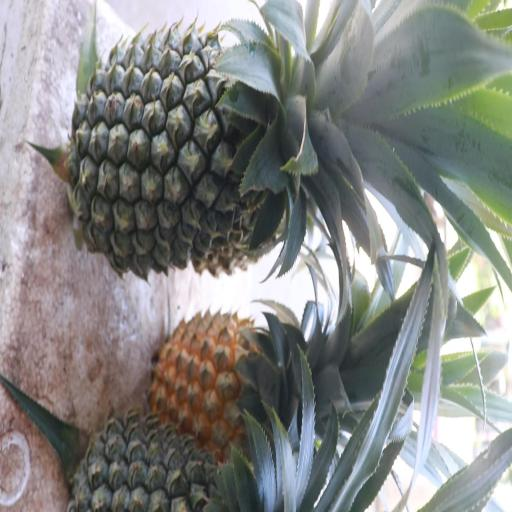Pineapple - v8 v1: (158, 293, 322, 441)
